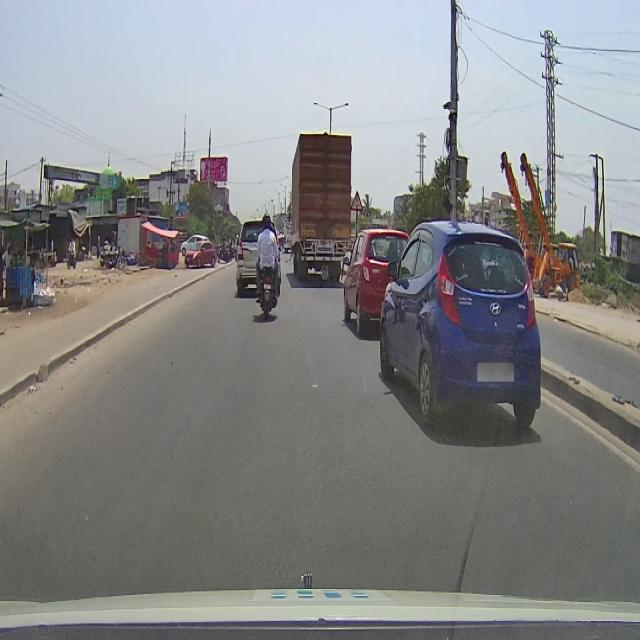car ahead at: (380, 219, 544, 436), (341, 231, 392, 336)
truck ahead at: (290, 134, 352, 280)
